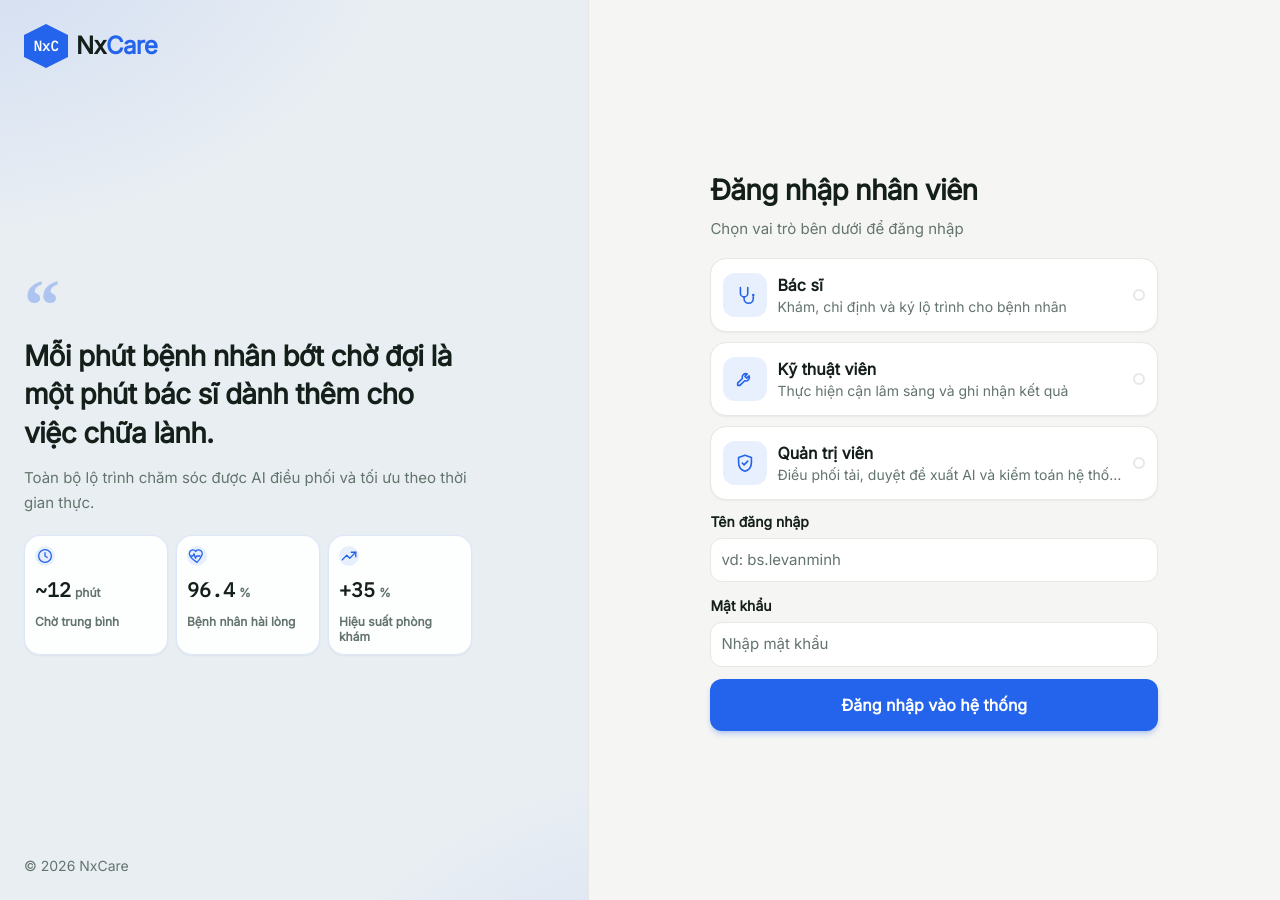
Test: ConsoleApp (TASK-026 foundation) › submitting the form without picking a role or credentials shows an error and does not log in
Click the button "Đăng nhập vào hệ thống". click: point(934, 705)
box: [710,679,1158,731]
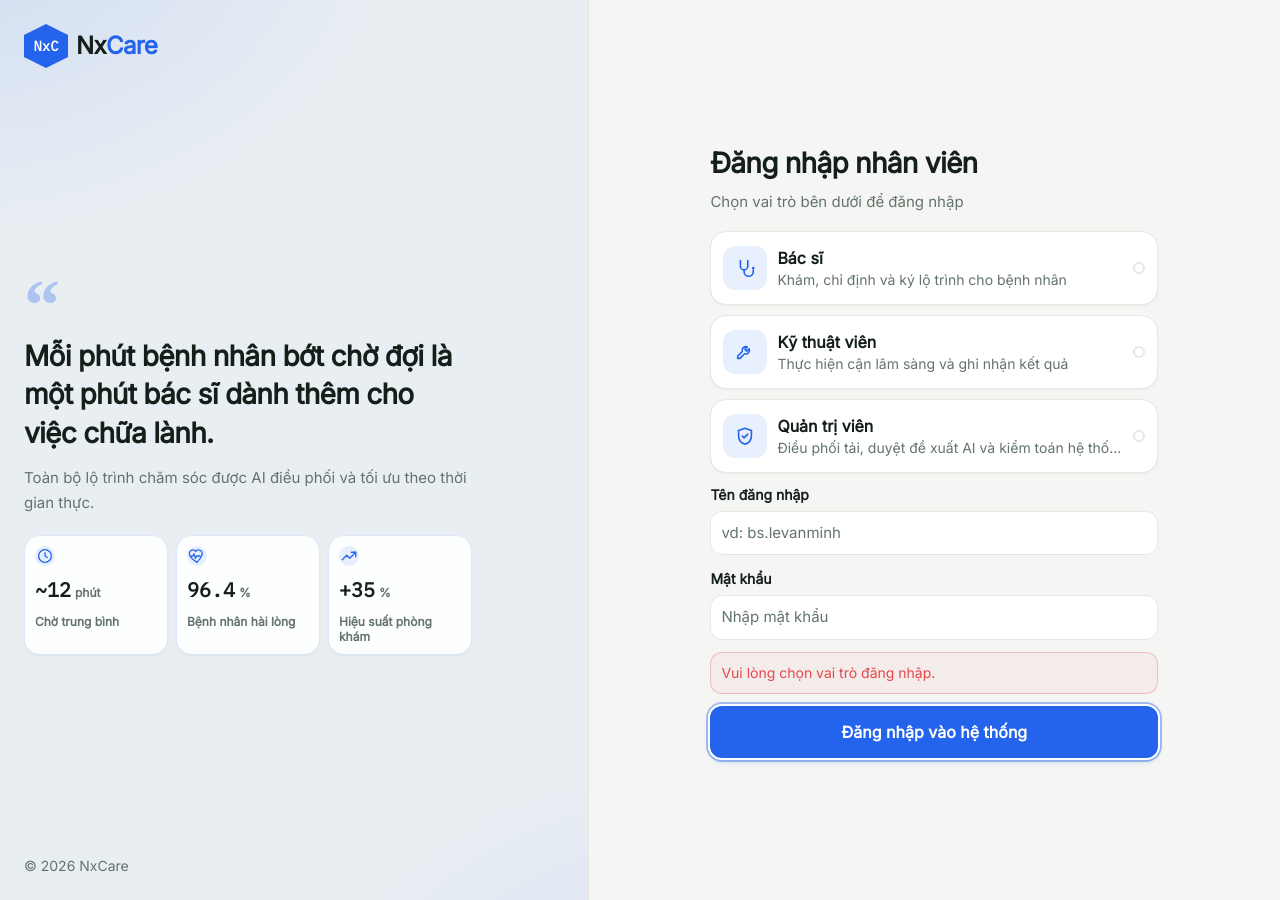
Expected: the message shows "chọn vai trò", [721,664,935,681]
Click the button "Bác sĩ Khám, chỉ định và ký lộ trình cho bệnh nhân". click: point(934, 268)
box: [710,231,1158,305]
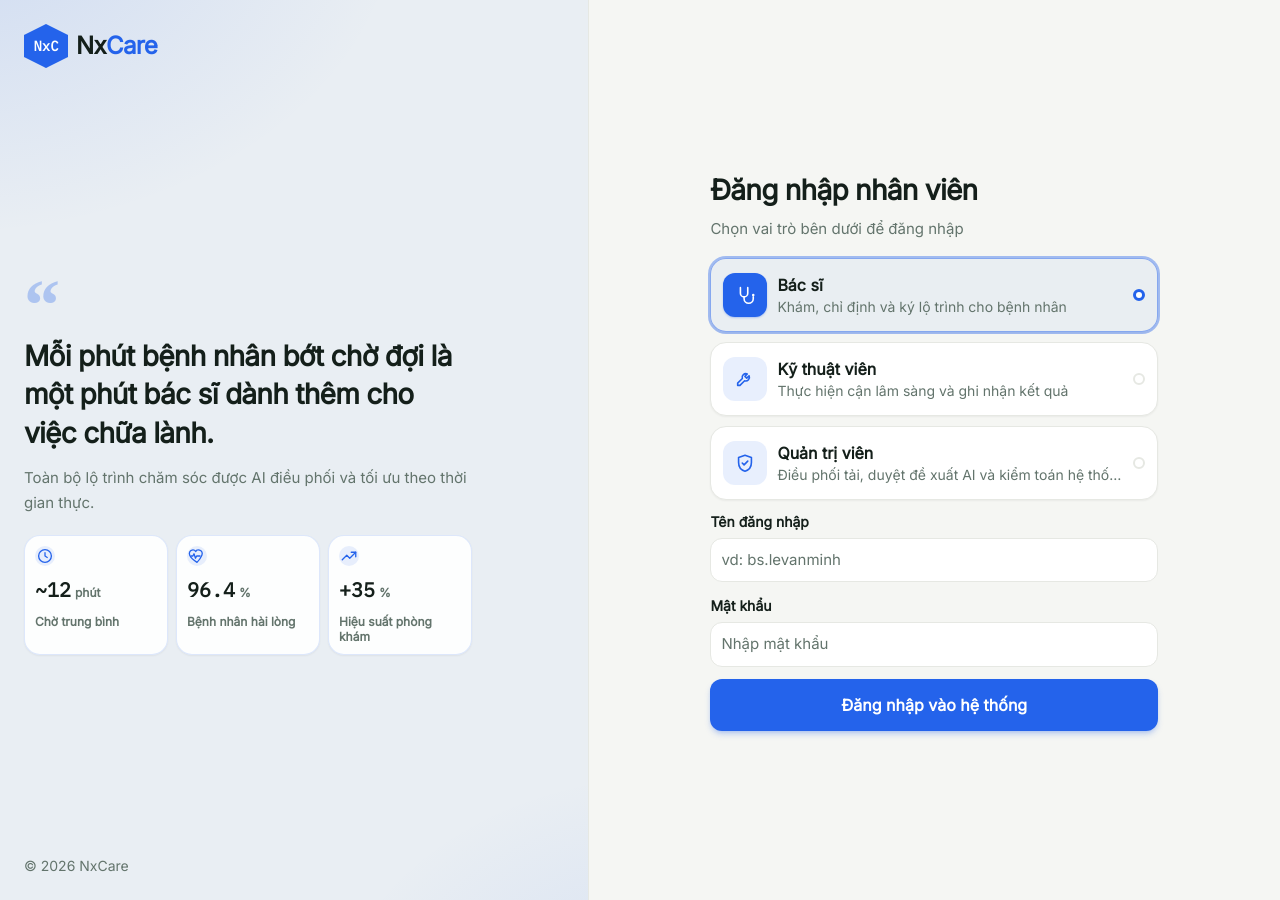
Click the button "Đăng nhập vào hệ thống". click: point(934, 705)
box: [710,679,1158,731]
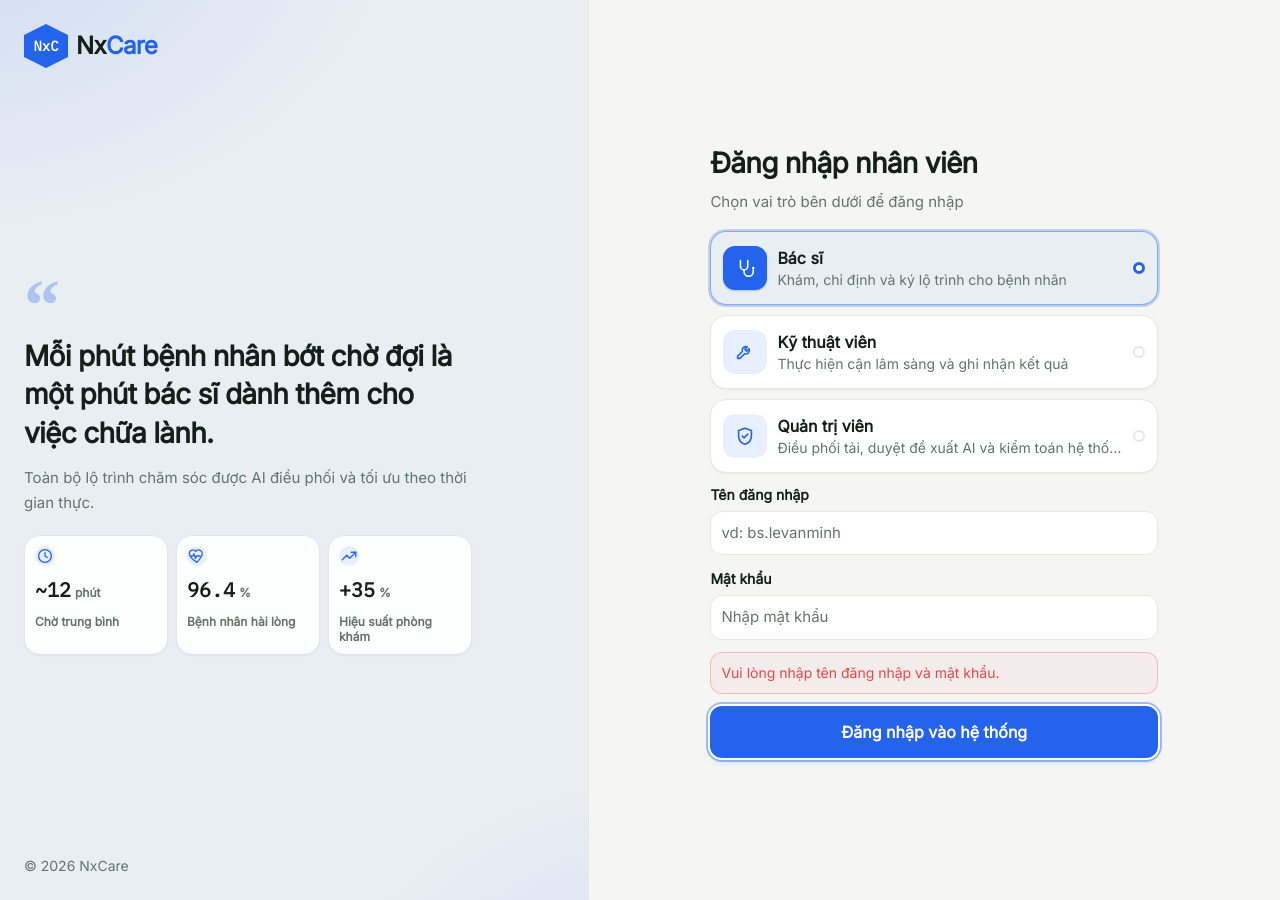
Expected: the heading "Đăng nhập nhân viên" is shown, [710,146,978,180]
Expected: the message shows "tên đăng nhập và mật khẩu", [721,664,1000,681]
